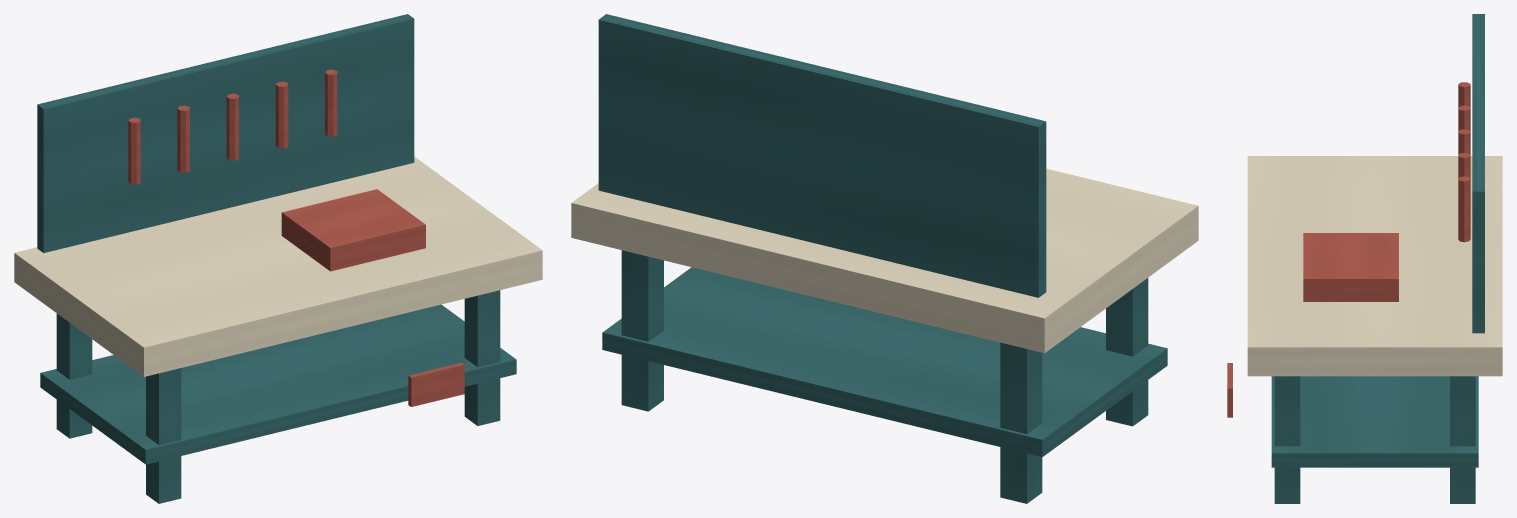
The model's file is atlas100-s038-a06.lod1.glb.
3 views of the same model, side by side, from view 1: azimuth 30°, elevation 25°; view 2: azimuth 150°, elevation 25°; view 3: azimuth 270°, elevation 25° (orthographic). The views are drawn at different scales.
Visible parts, largest first — view 1: atlas100-s038-a06:part-004, atlas100-s038-a06:part-006, atlas100-s038-a06:part-005, atlas100-s038-a06:part-012, atlas100-s038-a06:part-003, atlas100-s038-a06:part-001, atlas100-s038-a06:part-000, atlas100-s038-a06:part-013, atlas100-s038-a06:part-010, atlas100-s038-a06:part-007, atlas100-s038-a06:part-008, atlas100-s038-a06:part-009 (+1 smaller); view 2: atlas100-s038-a06:part-006, atlas100-s038-a06:part-005, atlas100-s038-a06:part-004, atlas100-s038-a06:part-002, atlas100-s038-a06:part-000, atlas100-s038-a06:part-001; view 3: atlas100-s038-a06:part-004, atlas100-s038-a06:part-005, atlas100-s038-a06:part-012, atlas100-s038-a06:part-006, atlas100-s038-a06:part-003, atlas100-s038-a06:part-002, atlas100-s038-a06:part-011, atlas100-s038-a06:part-013, atlas100-s038-a06:part-008.
Part boxes in pixels (x1,y1,x2,y2): atlas100-s038-a06:part-004: [14, 156, 542, 376]; atlas100-s038-a06:part-006: [37, 14, 414, 252]; atlas100-s038-a06:part-005: [40, 304, 516, 464]; atlas100-s038-a06:part-012: [281, 189, 425, 271]; atlas100-s038-a06:part-003: [464, 290, 500, 425]; atlas100-s038-a06:part-001: [146, 368, 181, 503]; atlas100-s038-a06:part-000: [56, 313, 92, 438]; atlas100-s038-a06:part-013: [408, 362, 464, 406]; atlas100-s038-a06:part-010: [275, 81, 288, 148]; atlas100-s038-a06:part-007: [128, 117, 140, 184]; atlas100-s038-a06:part-008: [177, 105, 189, 172]; atlas100-s038-a06:part-009: [226, 93, 238, 160]; atlas100-s038-a06:part-006: [598, 14, 1046, 297]; atlas100-s038-a06:part-005: [602, 267, 1167, 457]; atlas100-s038-a06:part-004: [571, 168, 1198, 353]; atlas100-s038-a06:part-002: [621, 250, 663, 411]; atlas100-s038-a06:part-000: [1000, 342, 1042, 503]; atlas100-s038-a06:part-001: [1106, 278, 1148, 426]; atlas100-s038-a06:part-004: [1247, 156, 1502, 376]; atlas100-s038-a06:part-005: [1271, 376, 1478, 467]; atlas100-s038-a06:part-012: [1303, 233, 1398, 301]; atlas100-s038-a06:part-006: [1472, 14, 1484, 333]; atlas100-s038-a06:part-003: [1274, 376, 1300, 503]; atlas100-s038-a06:part-002: [1450, 376, 1475, 503]; atlas100-s038-a06:part-011: [1458, 176, 1470, 242]; atlas100-s038-a06:part-013: [1227, 363, 1232, 417]; atlas100-s038-a06:part-008: [1458, 105, 1470, 130].
Bounding box in the file's own units: 2.84 × 2.21 × 1.73.
3 materials, 3 textured.
